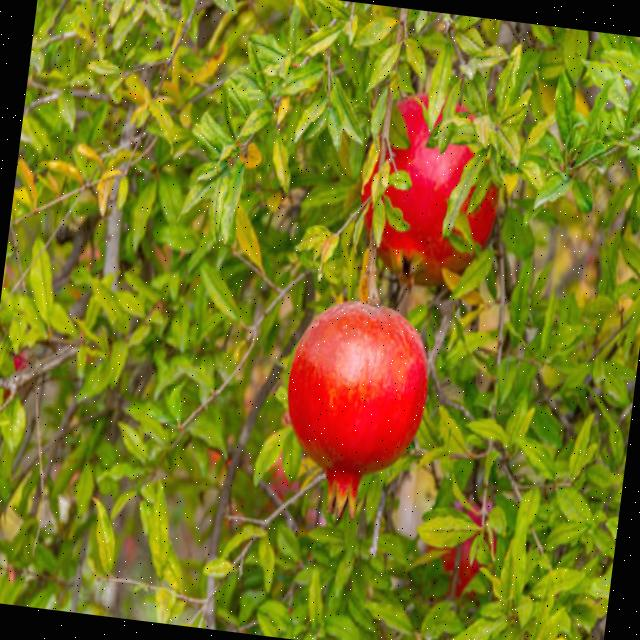Ripe: (270, 294, 440, 526), (344, 80, 510, 300)
